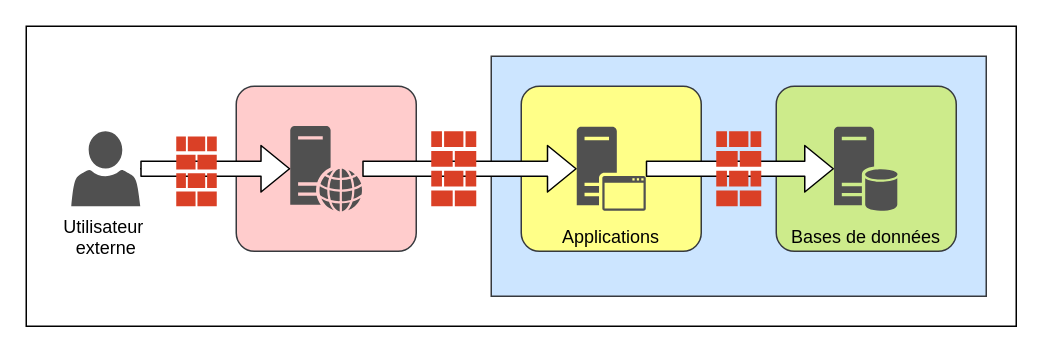
Some shapes in this 1043 by 353 pixel diagram are drawn without their labels. The shapes that lost their labels are listed below. From the top down, each one's box as (x1, y1, x2, y2) in pixels, then its label:
(235, 85, 416, 251): Bordure (DMZ)
(490, 55, 986, 296): Réseau interne
